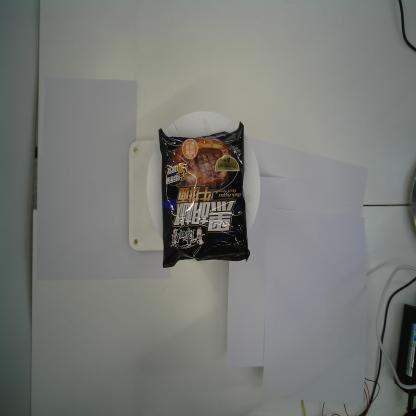Instant Noodles: (156, 120, 252, 270)
